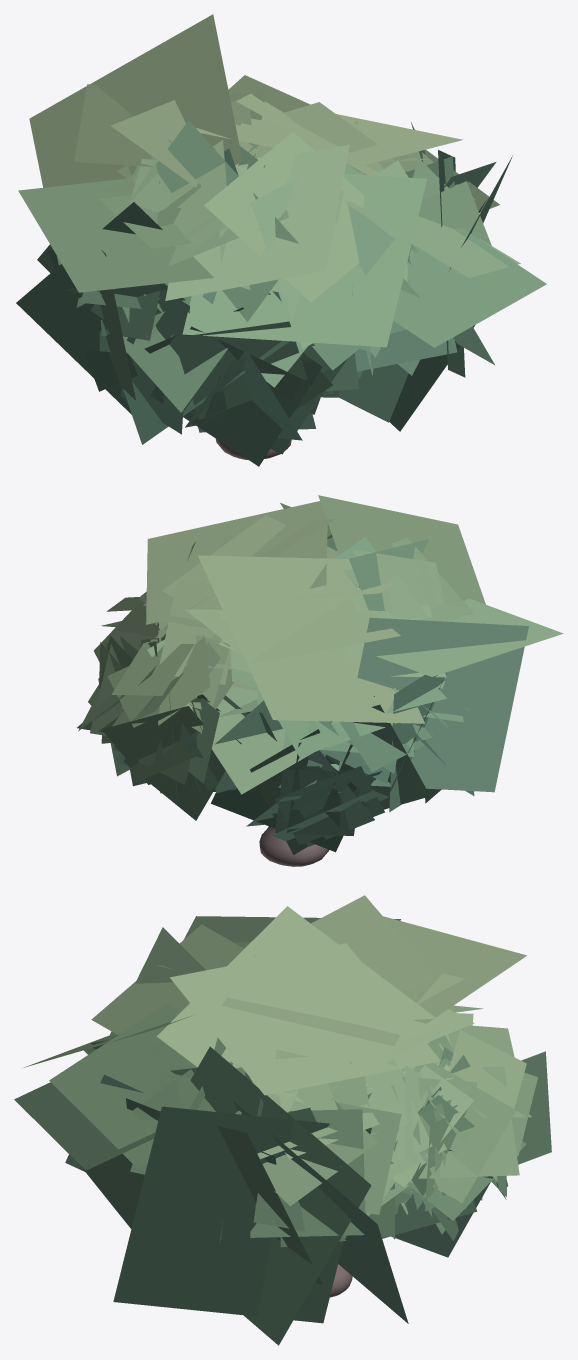
The model's file is ancient_oak_v3.glb.
The picture shows the model from 3 angles, top to bottom: view 1: azimuth 30°, elevation 25°; view 2: azimuth 150°, elevation 25°; view 3: azimuth 270°, elevation 25°; orthographic projection. The views are drawn at different scales.
Parts seen in each view (by area): view 1: far, near; view 2: far, near; view 3: far, near.
Boxes of the visible parts, x1,y1,x2,y2 form: far: (16, 14, 546, 444); near: (37, 75, 499, 466); far: (146, 495, 563, 854); near: (77, 542, 474, 866); far: (14, 895, 526, 1345); near: (84, 941, 551, 1297).
Size of the model in its own units: 27.29 by 19.32 by 25.48.
